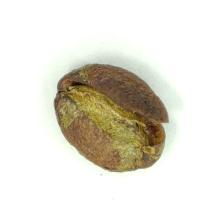NG: (58, 77, 149, 170)
